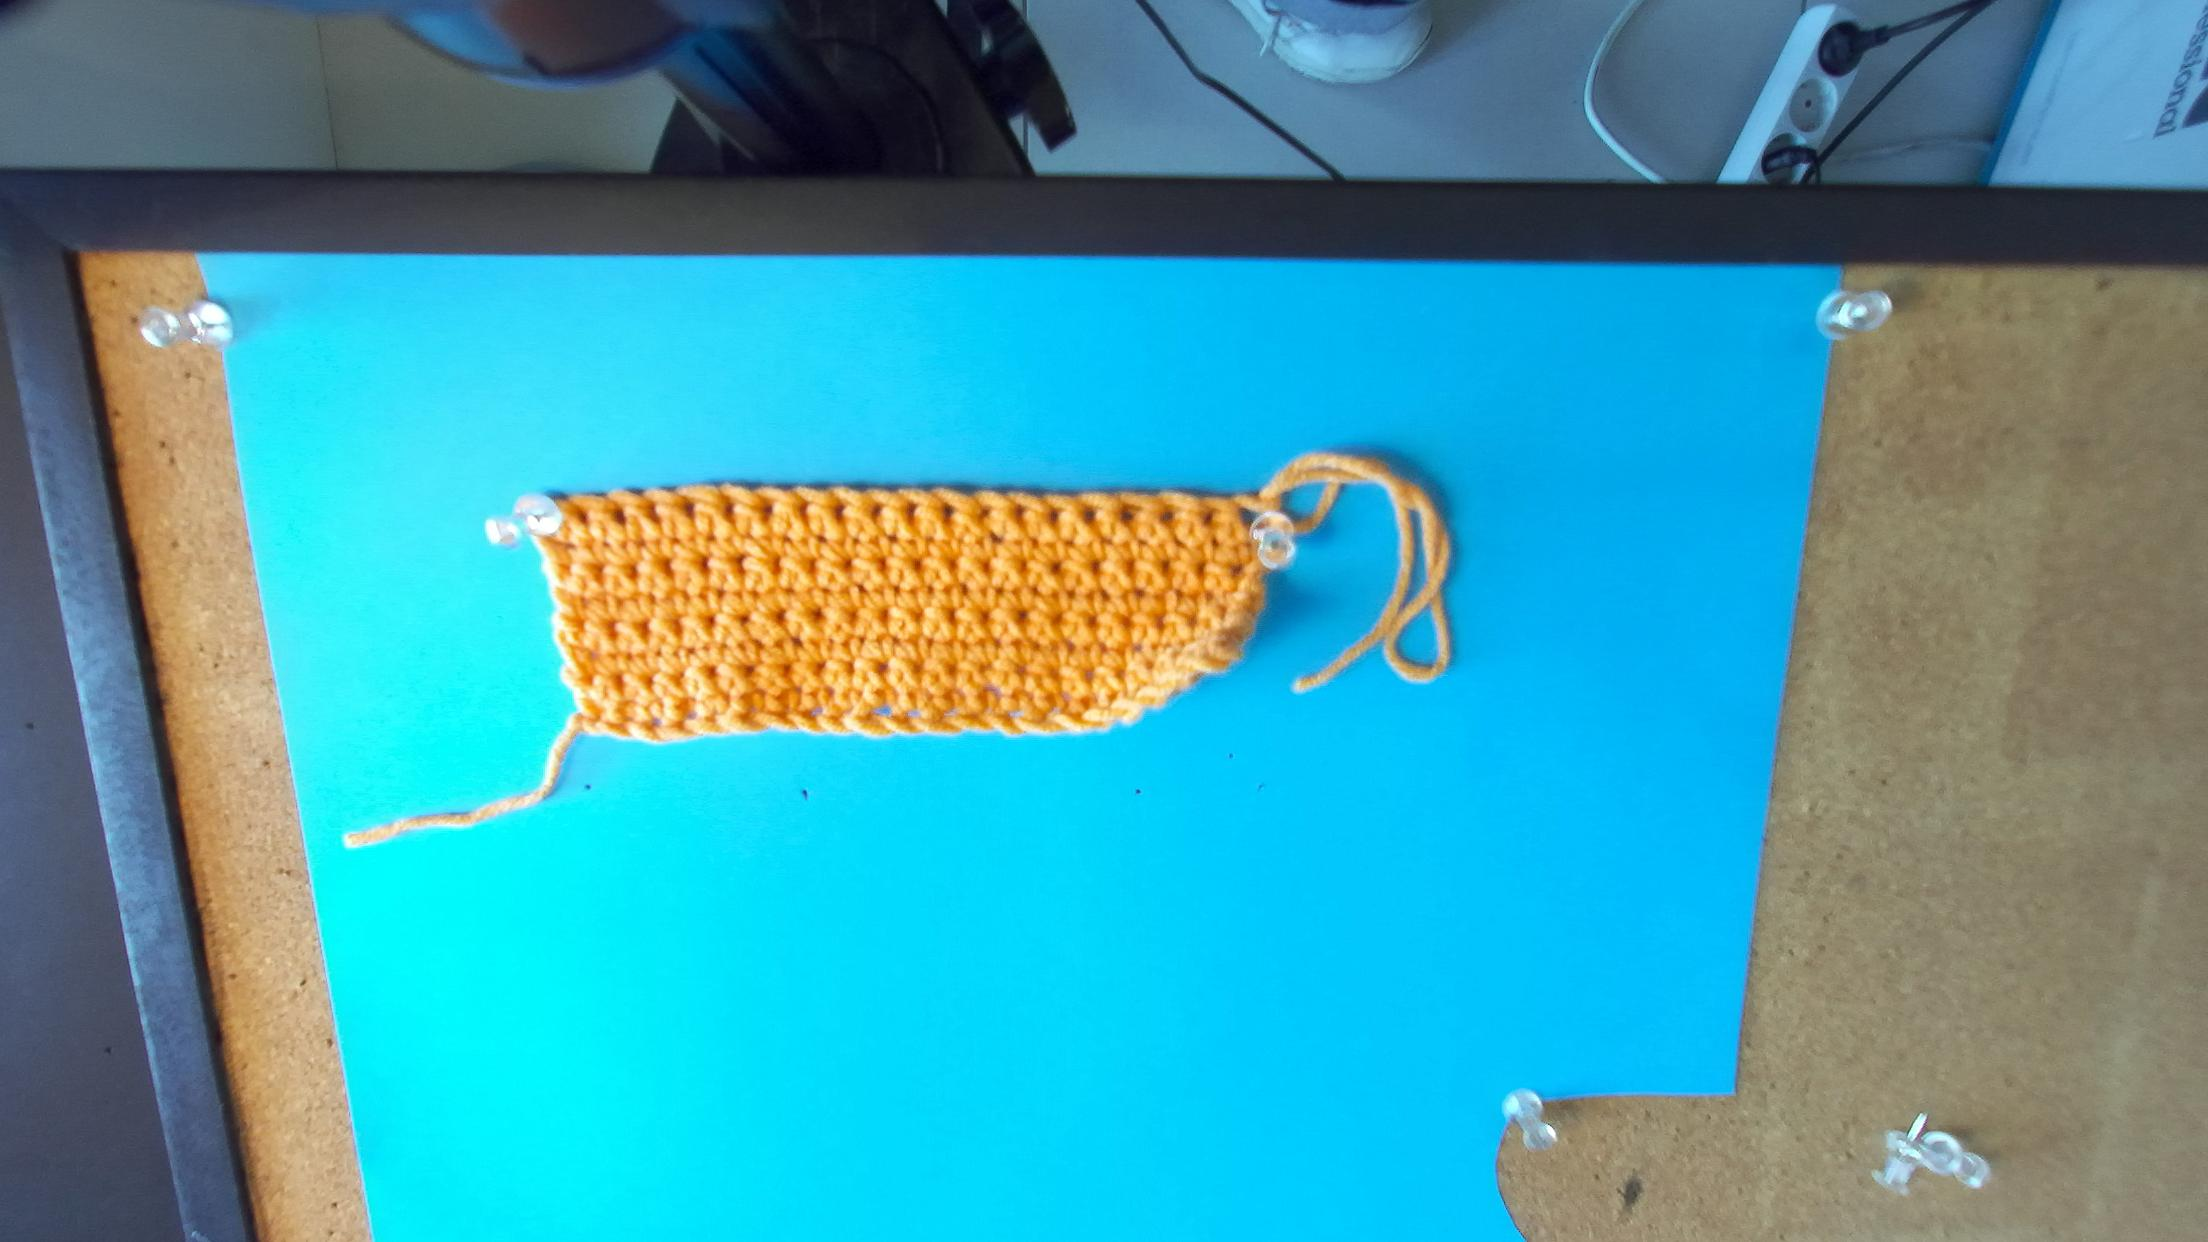hole: (1239, 508, 1262, 525), (645, 502, 661, 523), (831, 499, 848, 520), (755, 497, 773, 516), (570, 507, 587, 526), (904, 502, 919, 523), (940, 503, 957, 522), (1122, 505, 1139, 523), (611, 510, 628, 526), (977, 507, 995, 522), (722, 499, 735, 519), (1048, 510, 1065, 525), (1081, 507, 1096, 523), (1162, 505, 1177, 522), (1201, 508, 1216, 525), (870, 503, 884, 522), (682, 502, 696, 519), (795, 499, 808, 514), (1016, 502, 1027, 517)
swatch: (508, 485, 1275, 745)
